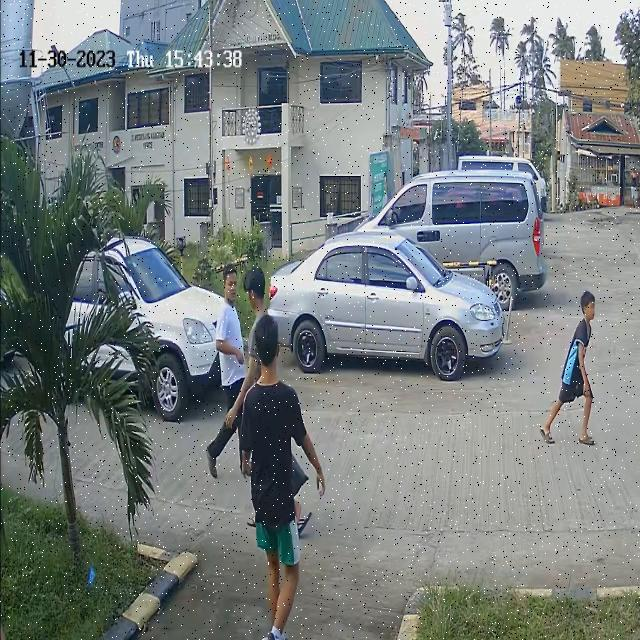human: (245, 312, 328, 640), (537, 291, 596, 453), (203, 266, 244, 494), (245, 266, 273, 324)
trash: (288, 436, 309, 514)
